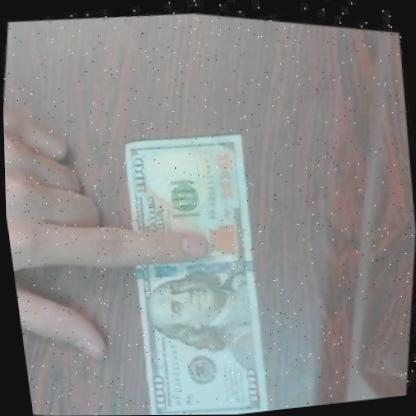one_hundred-front: (66, 94, 321, 416)
